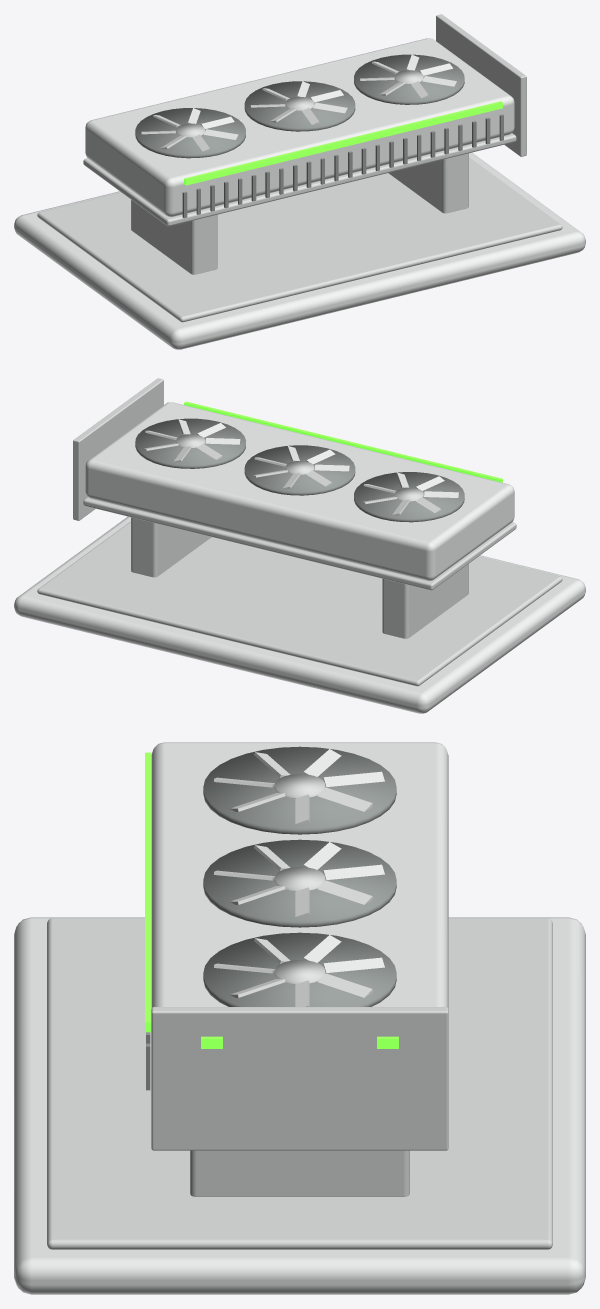
3 renders of one model, top to bottom at view 1: azimuth 30°, elevation 25°; view 2: azimuth 150°, elevation 25°; view 3: azimuth 270°, elevation 25°, orthographic. The views are drawn at different scales.
Visible parts, largest first — view 1: gpu_paving, gpu_shroud, gpu_podium, gpu_backplate, gpu_stand_-1.15, gpu_bracket, gpu_fan_0_well, gpu_fan_1_well, gpu_fan_-1_well, gpu_stand_1.15, gpu_led_strip; view 2: gpu_paving, gpu_shroud, gpu_podium, gpu_backplate, gpu_stand_-1.15, gpu_bracket, gpu_fan_0_well, gpu_fan_1_well, gpu_fan_-1_well, gpu_stand_1.15, gpu_led_strip; view 3: gpu_paving, gpu_podium, gpu_bracket, gpu_shroud, gpu_stand_1.15, gpu_fan_0_well, gpu_fan_-1_well, gpu_fan_1_well, gpu_led_strip, gpu_fan_1_hub, gpu_fan_-1_hub, gpu_fan_0_hub.
Part boxes in pixels (bbox=[...]): gpu_paving: bbox=[37, 157, 562, 322]; gpu_shroud: bbox=[85, 38, 514, 216]; gpu_podium: bbox=[14, 152, 585, 349]; gpu_backplate: bbox=[83, 133, 516, 226]; gpu_stand_-1.15: bbox=[131, 200, 217, 274]; gpu_bracket: bbox=[436, 14, 526, 156]; gpu_fan_0_well: bbox=[244, 81, 355, 131]; gpu_fan_1_well: bbox=[354, 54, 464, 104]; gpu_fan_-1_well: bbox=[135, 108, 245, 158]; gpu_stand_1.15: bbox=[388, 153, 468, 213]; gpu_led_strip: bbox=[184, 101, 502, 185]; gpu_paving: bbox=[37, 521, 562, 686]; gpu_shroud: bbox=[85, 402, 514, 580]; gpu_podium: bbox=[14, 516, 585, 713]; gpu_backplate: bbox=[83, 497, 516, 590]; gpu_stand_-1.15: bbox=[382, 564, 468, 638]; gpu_bracket: bbox=[73, 378, 163, 520]; gpu_fan_0_well: bbox=[244, 445, 355, 495]; gpu_fan_1_well: bbox=[135, 418, 245, 468]; gpu_fan_-1_well: bbox=[354, 472, 464, 522]; gpu_stand_1.15: bbox=[131, 517, 211, 577]; gpu_led_strip: bbox=[184, 401, 502, 482]; gpu_paving: bbox=[47, 918, 552, 1249]; gpu_podium: bbox=[14, 917, 585, 1294]; gpu_bracket: bbox=[151, 1007, 448, 1150]; gpu_shroud: bbox=[151, 742, 448, 1008]; gpu_stand_1.15: bbox=[190, 1150, 409, 1196]; gpu_fan_0_well: bbox=[203, 839, 396, 927]; gpu_fan_-1_well: bbox=[203, 746, 396, 834]; gpu_fan_1_well: bbox=[203, 932, 396, 1006]; gpu_led_strip: bbox=[145, 752, 151, 1032]; gpu_fan_1_hub: bbox=[274, 960, 325, 983]; gpu_fan_-1_hub: bbox=[274, 774, 325, 798]; gpu_fan_0_hub: bbox=[274, 867, 325, 890].
Bounding box in the file's own units: 3.8 × 1.35 × 2.6.
